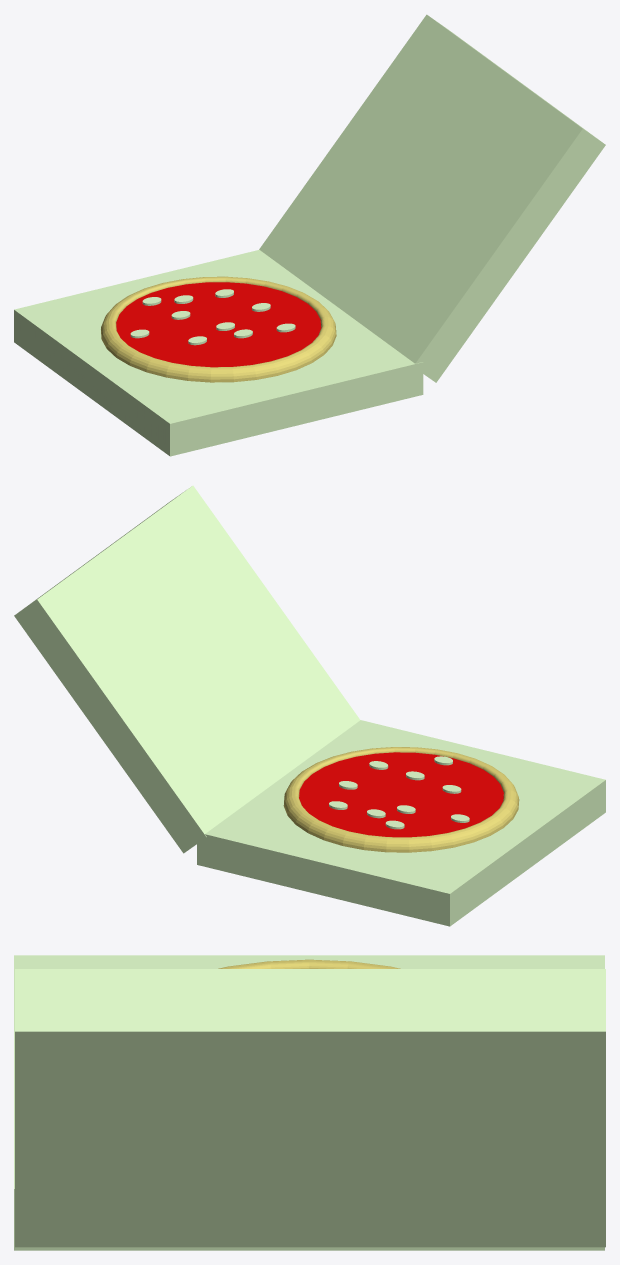
Rendered from pizza.fbx.
3 renders of one model, top to bottom at view 1: azimuth 30°, elevation 25°; view 2: azimuth 150°, elevation 25°; view 3: azimuth 270°, elevation 25°, orthographic. The views are drawn at different scales.
Parts seen in each view (by area): view 1: Cube; view 2: Cube; view 3: Cube.
Boxes of the visible parts, x1=… form: Cube: x1=14, y1=14, x2=605, y2=456; Cube: x1=14, y1=485, x2=605, y2=926; Cube: x1=14, y1=955, x2=605, y2=1250.
Size of the model in its own units: 565 by 281 by 351.
